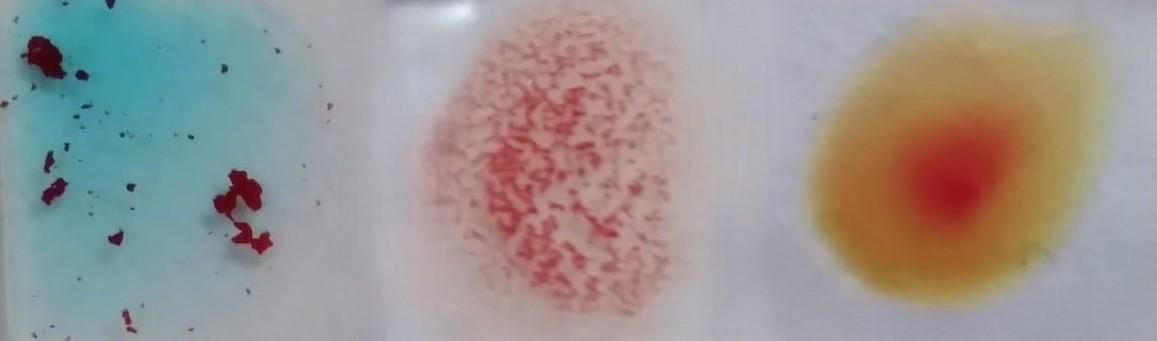A: (10, 1, 308, 334)
D: (439, 16, 695, 329)
